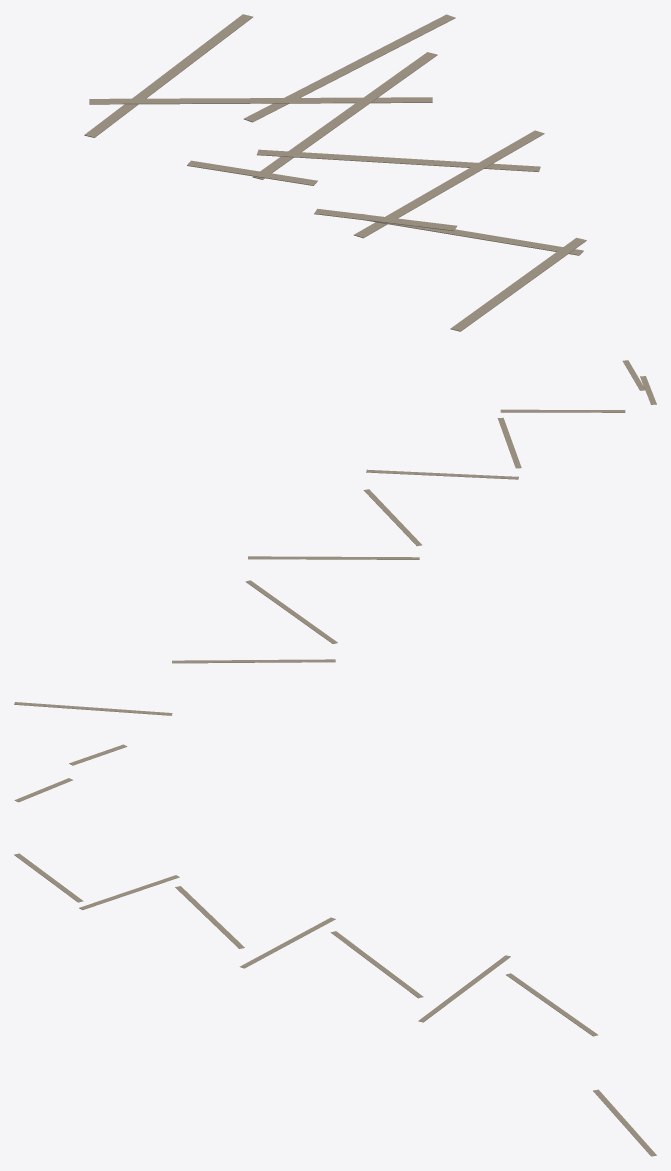
File: Castalla_Hill_Access_Current_Reference_v4.glb
3 renders of one model, top to bottom at view 1: azimuth 30°, elevation 25°; view 2: azimuth 150°, elevation 25°; view 3: azimuth 270°, elevation 25°, orthographic. The views are drawn at different scales.
Visible parts, largest first — view 1: world; view 2: world; view 3: world.
Part boxes in pixels (left/top/right/bottom): world: left=84, top=14, right=586, bottom=331; world: left=14, top=360, right=656, bottom=715; world: left=14, top=744, right=656, bottom=1156.
Bounding box in the file's own units: 240 × 122 × 331.
